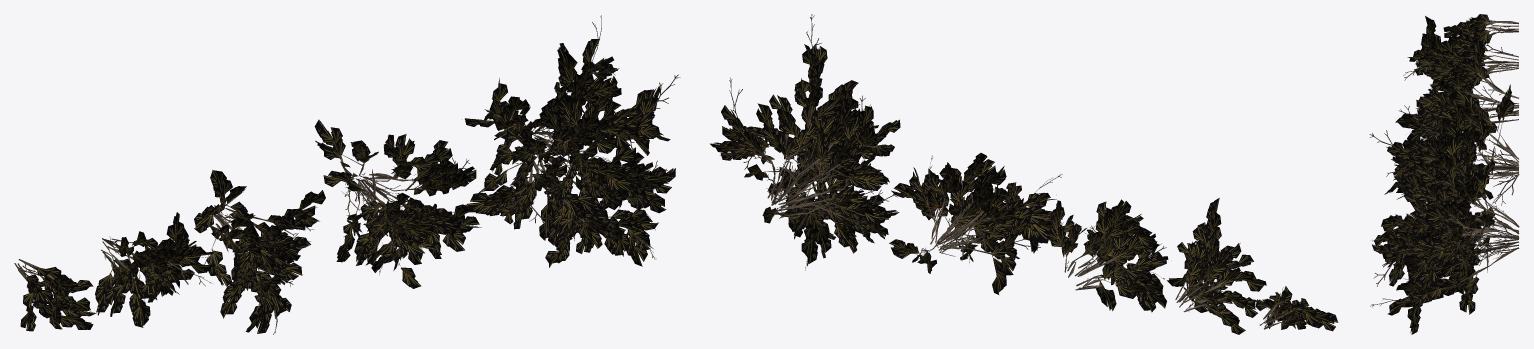
3 renders of one model, left to right at view 1: azimuth 30°, elevation 25°; view 2: azimuth 150°, elevation 25°; view 3: azimuth 270°, elevation 25°, orthographic. The views are drawn at different scales.
Visible parts, largest first — view 1: model; view 2: model; view 3: model.
Part boxes in pixels (x1,y1,x2,y2): model: (14,15,680,334); model: (710,14,1338,334); model: (1369,14,1519,334).
Size of the model in its own units: 2.28 by 0.8434 by 0.5413.
Materials: 3 (3 with a texture image).
